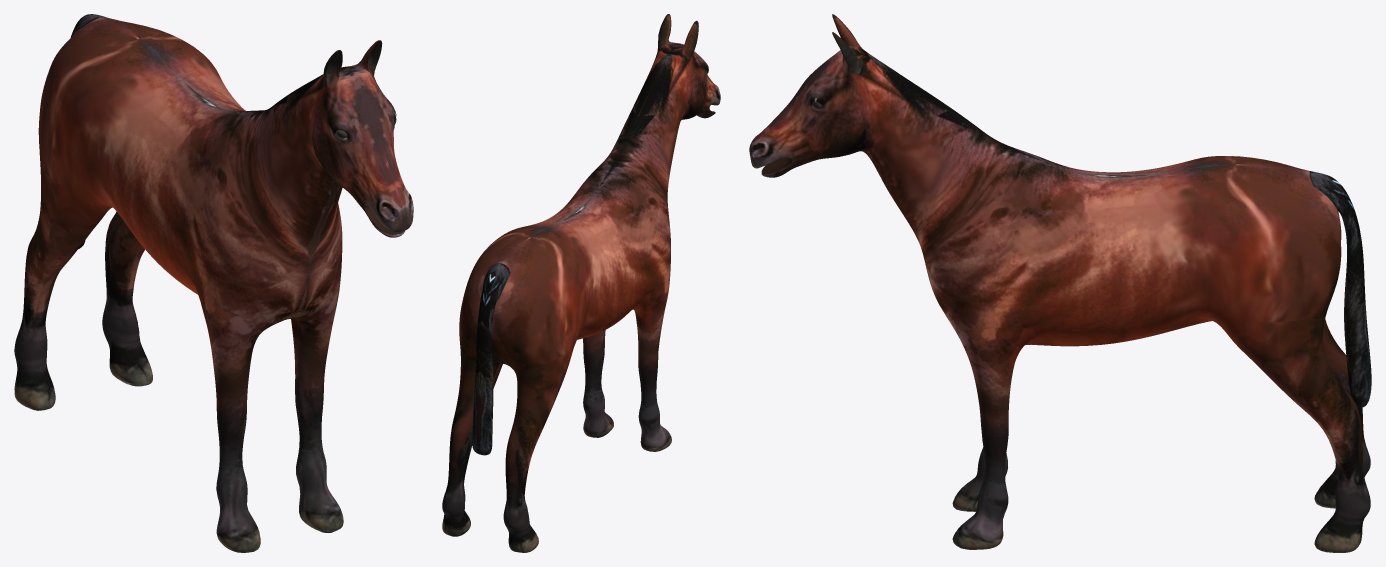
File: Horse_v01-it2.obj
The picture shows the model from 3 angles, left to right: view 1: azimuth 30°, elevation 25°; view 2: azimuth 150°, elevation 25°; view 3: azimuth 270°, elevation 25°; orthographic projection. The views are drawn at different scales.
Size of the model in its own units: 0.2381 by 0.8929 by 1.
1 material, 1 textured.
